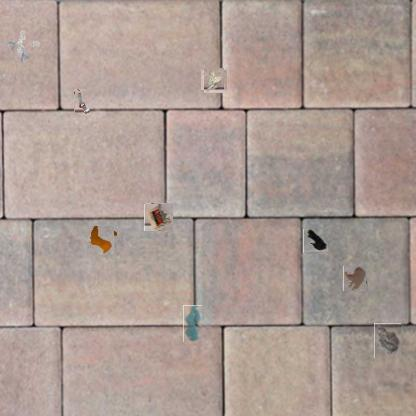dirty: (374, 323, 401, 358), (145, 203, 173, 232), (88, 226, 116, 254), (11, 31, 38, 59), (303, 229, 328, 254), (202, 69, 226, 92), (74, 90, 90, 113)
liquid: (183, 305, 202, 342), (343, 266, 367, 291)
